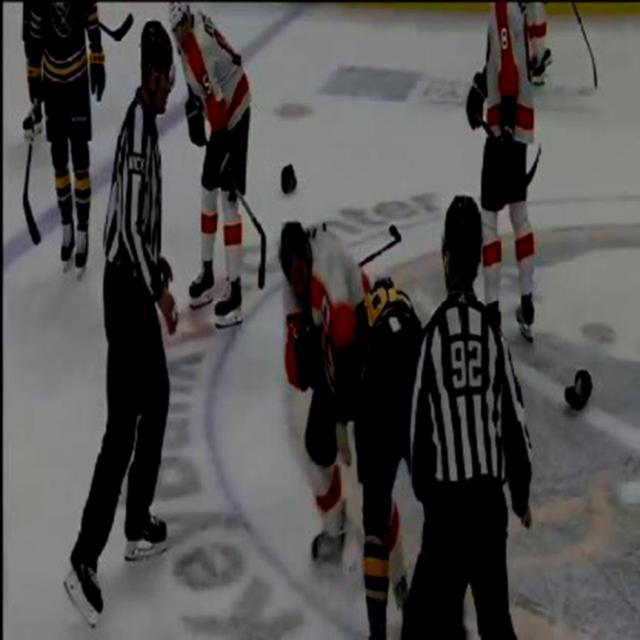fight: (276, 218, 441, 638)
